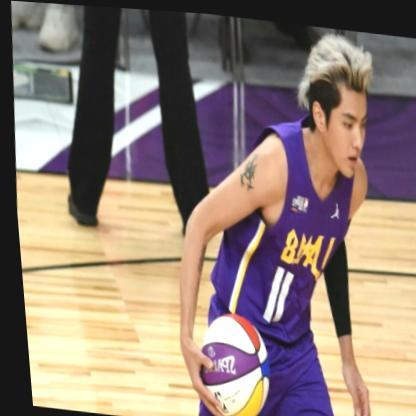basketball: (189, 306, 270, 416)
